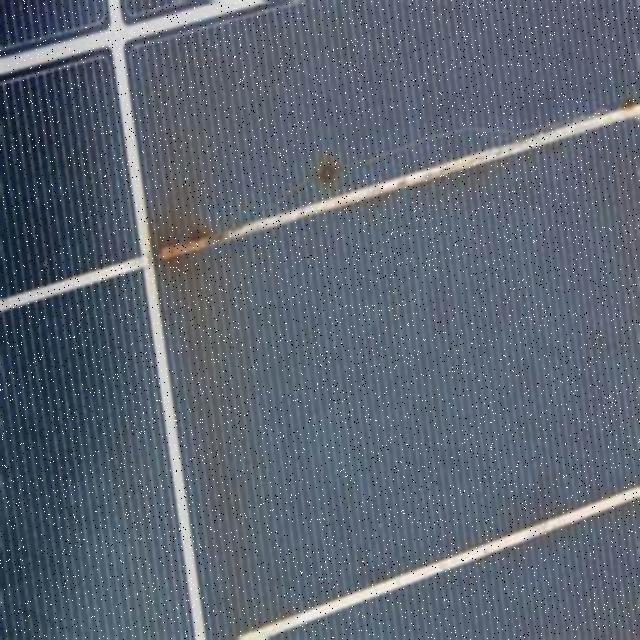electrical damage: (104, 93, 416, 338)
